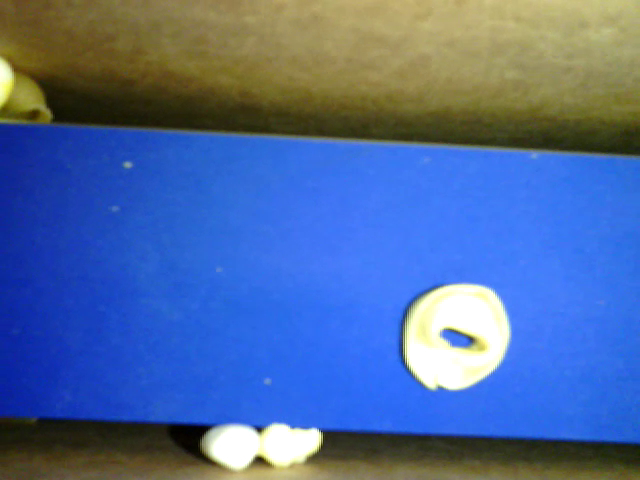shell: (1, 75, 54, 124)
tortellini: (402, 282, 509, 390)
